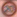20 km speed: (1, 1, 16, 17)
